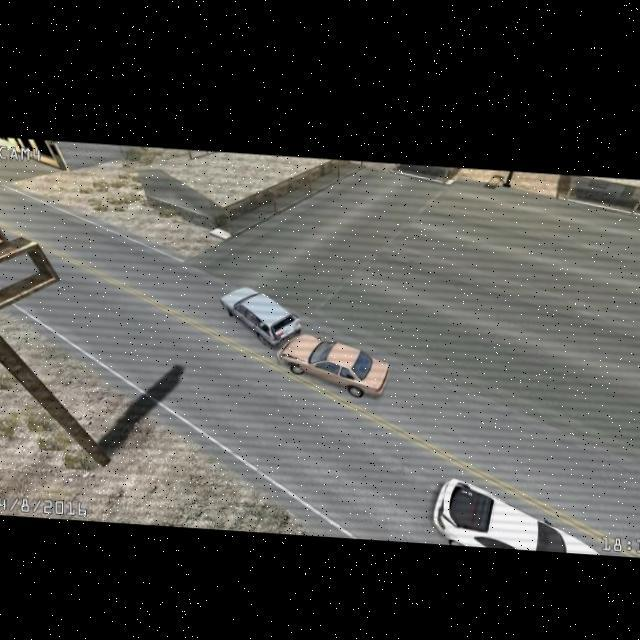multiple_accident: (183, 195, 418, 443)
normal: (422, 437, 627, 565)
